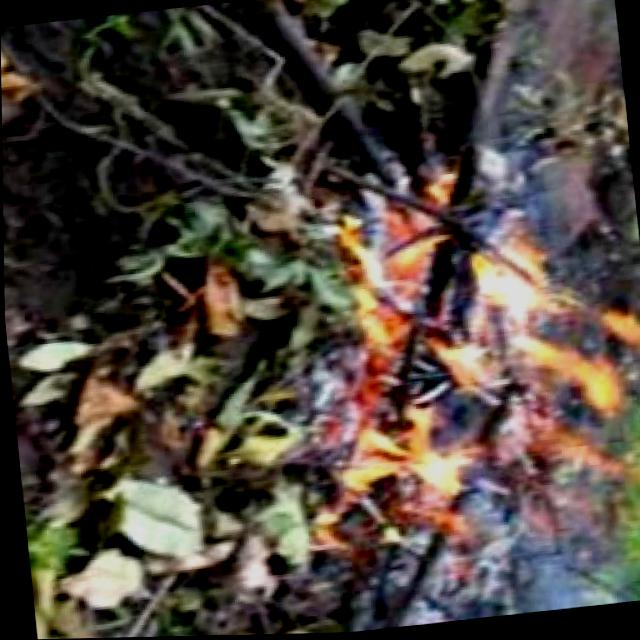Fire: (266, 141, 640, 606)
